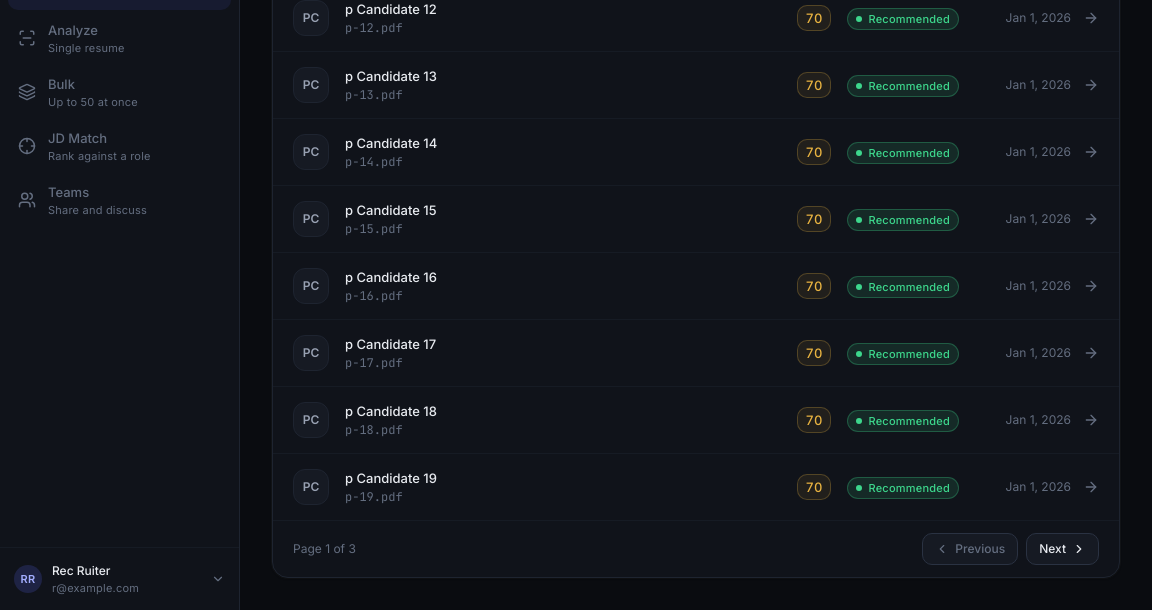
Test: dashboard pagination › ignores a slow response that a newer query has already replaced
(page scrolled)
expect the text "Page 1 of 3" is shown: met, box [293, 540, 356, 558]
Click the button "Next".
click(1063, 549)  # box [1026, 533, 1099, 565]
(page scrolled)
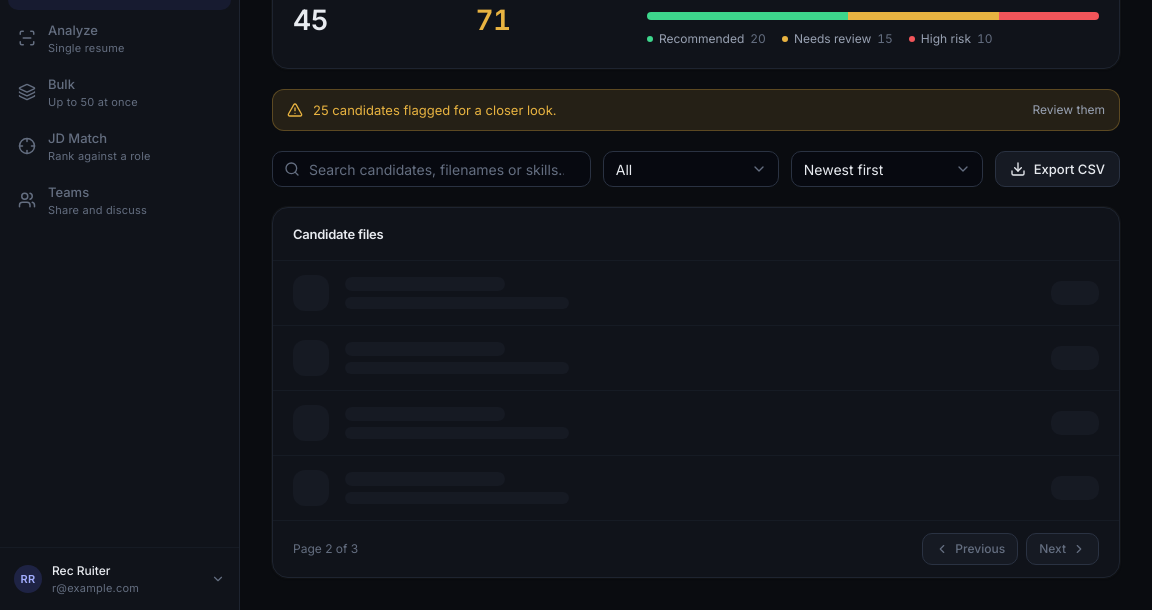
Select "Oldest first" in the dropdown named "sort" at coordinates (887, 169), box [791, 151, 983, 187]
(page scrolled)
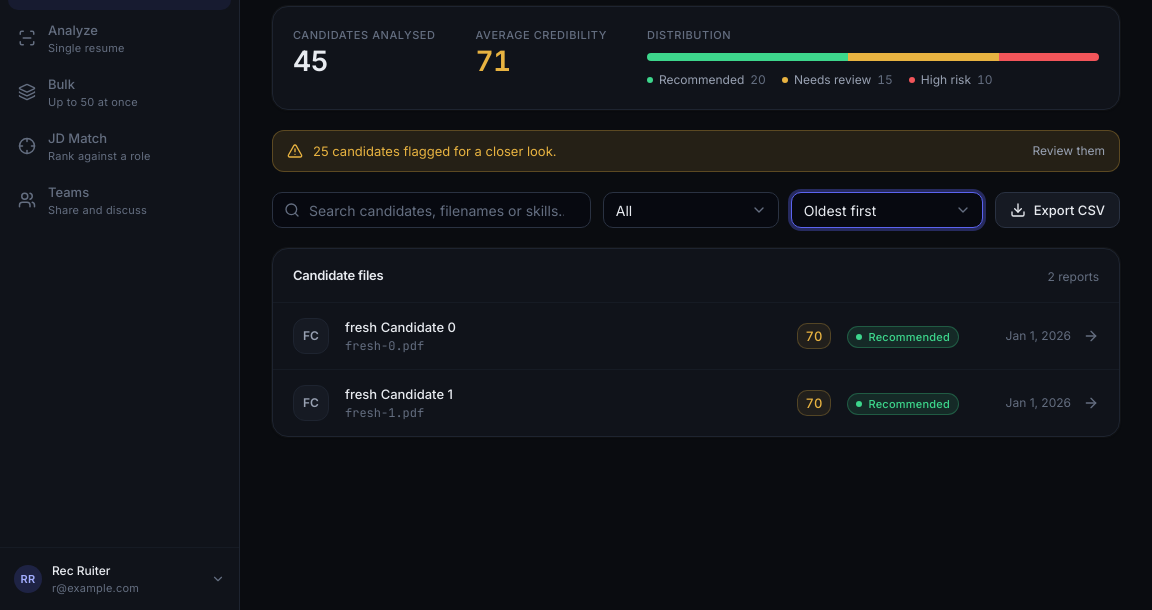
expect the text "fresh Candidate 0" is shown: met, box [345, 319, 456, 335]
